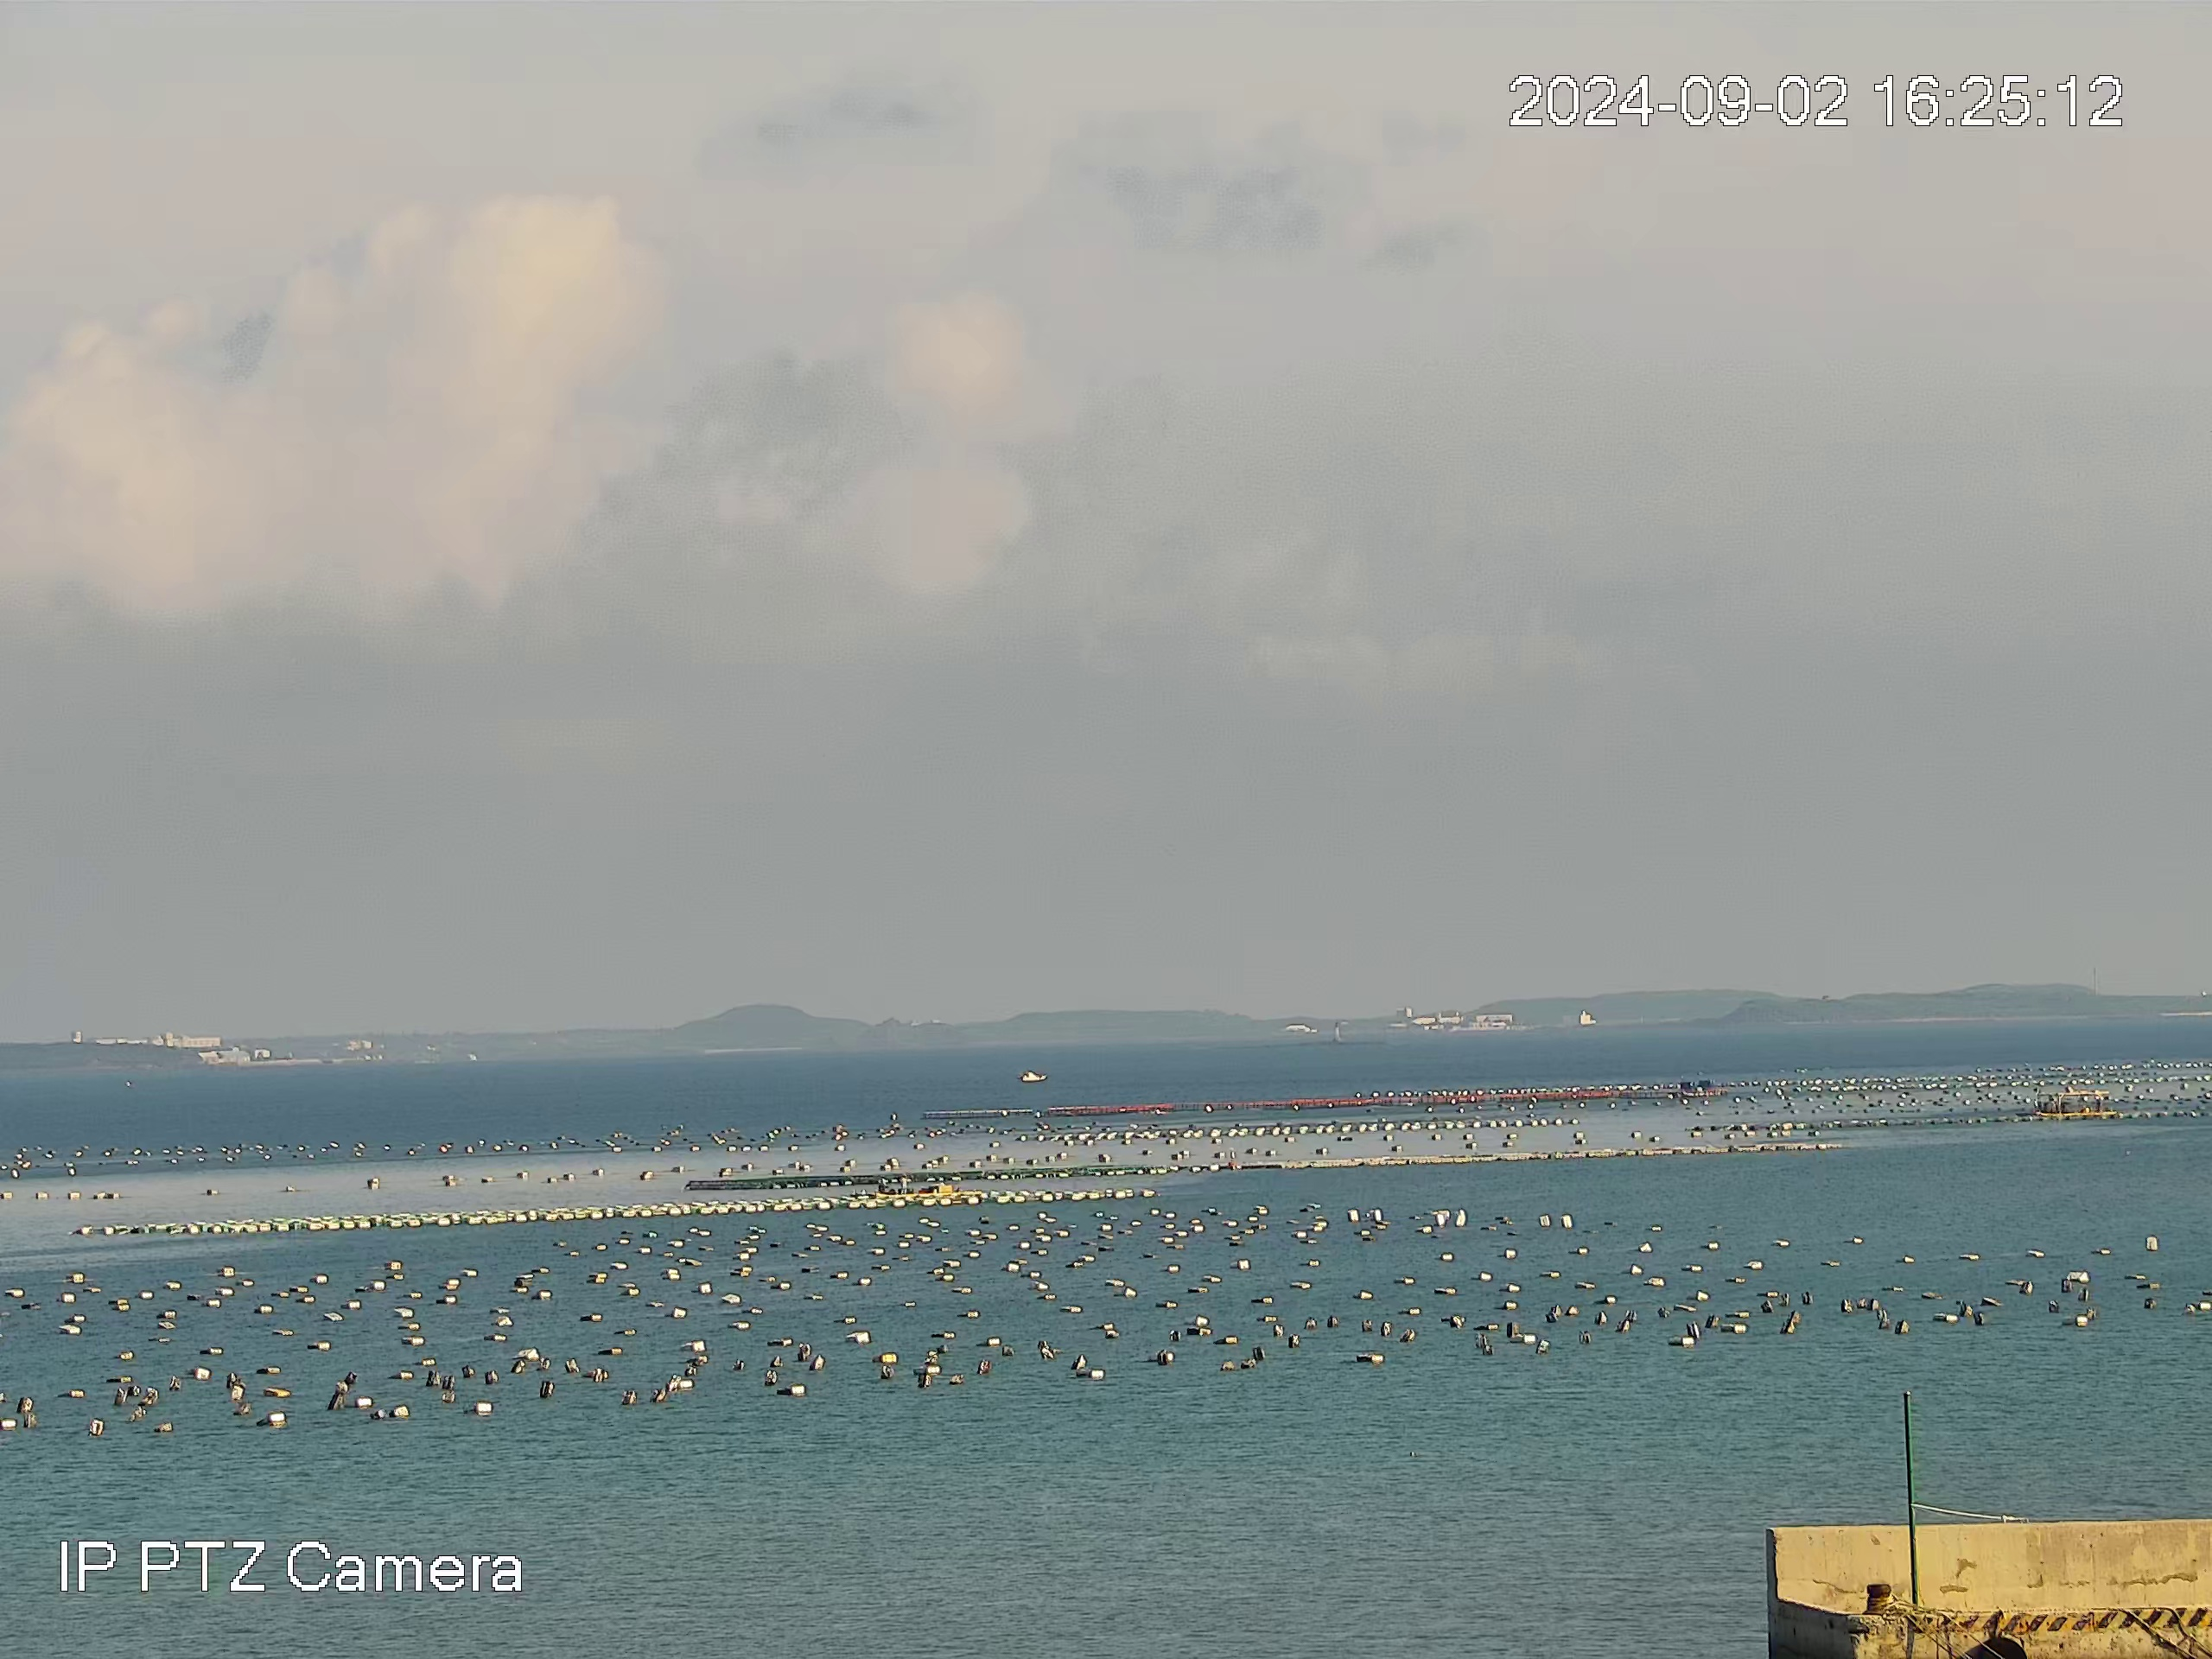boat: (2033, 1089, 2118, 1122), (874, 1173, 982, 1199), (1019, 1068, 1049, 1084)
